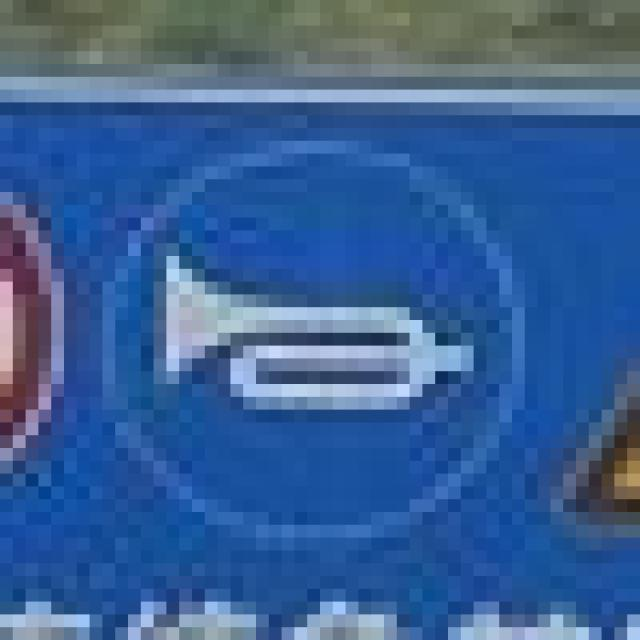compulsory_min_speed: (90, 115, 512, 525)
